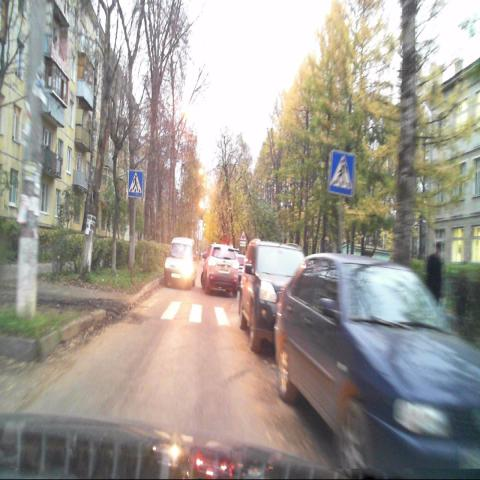5_19_1: (328, 150, 355, 198), (128, 169, 144, 198)
